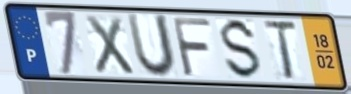7: (40, 8, 81, 78)
F: (169, 15, 214, 80)
S: (219, 16, 265, 82)
T: (260, 19, 300, 82)
U: (124, 11, 179, 81)
X: (83, 13, 137, 77)
